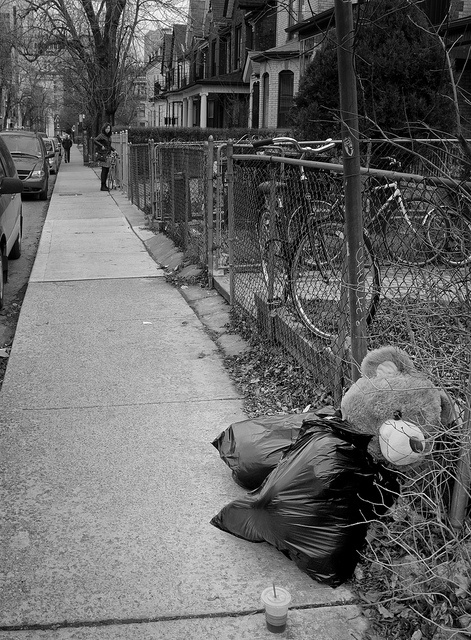non-vehicle: (251, 133, 384, 340), (288, 155, 451, 267), (442, 209, 471, 268), (108, 152, 119, 189)
